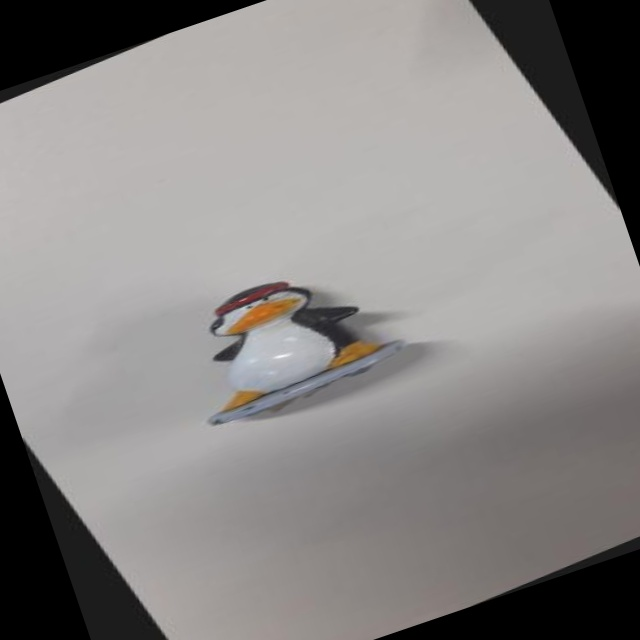Penguin: (93, 192, 451, 474)
